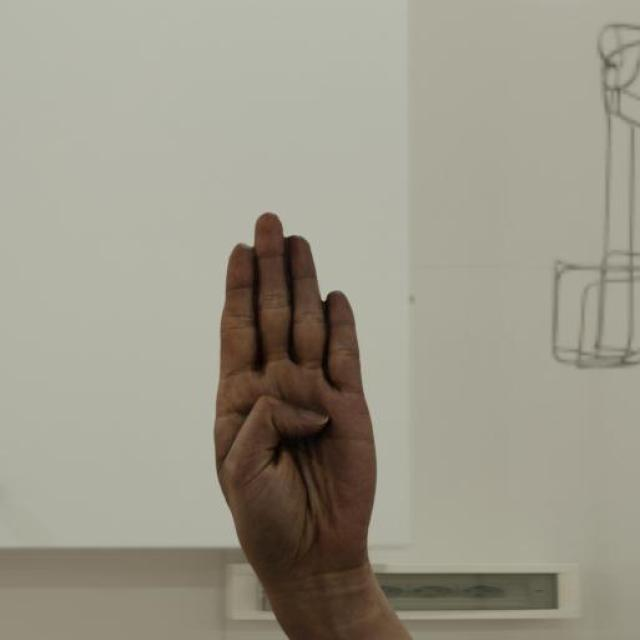B: (210, 205, 381, 591)
